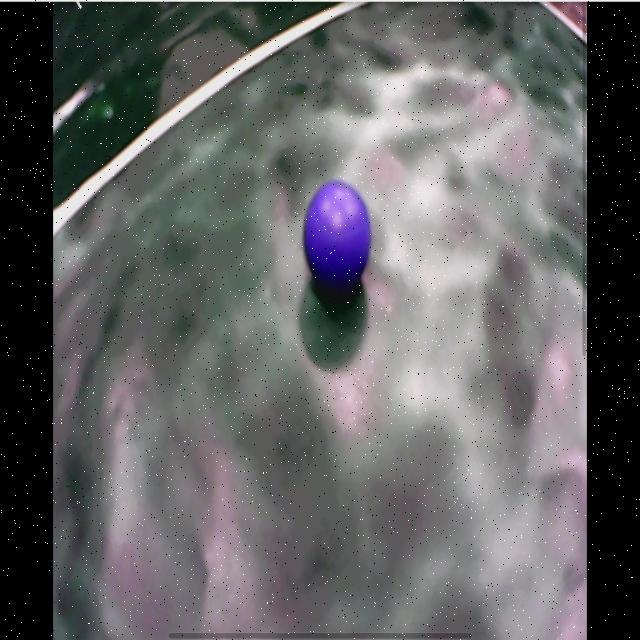ball: (304, 181, 372, 290)
